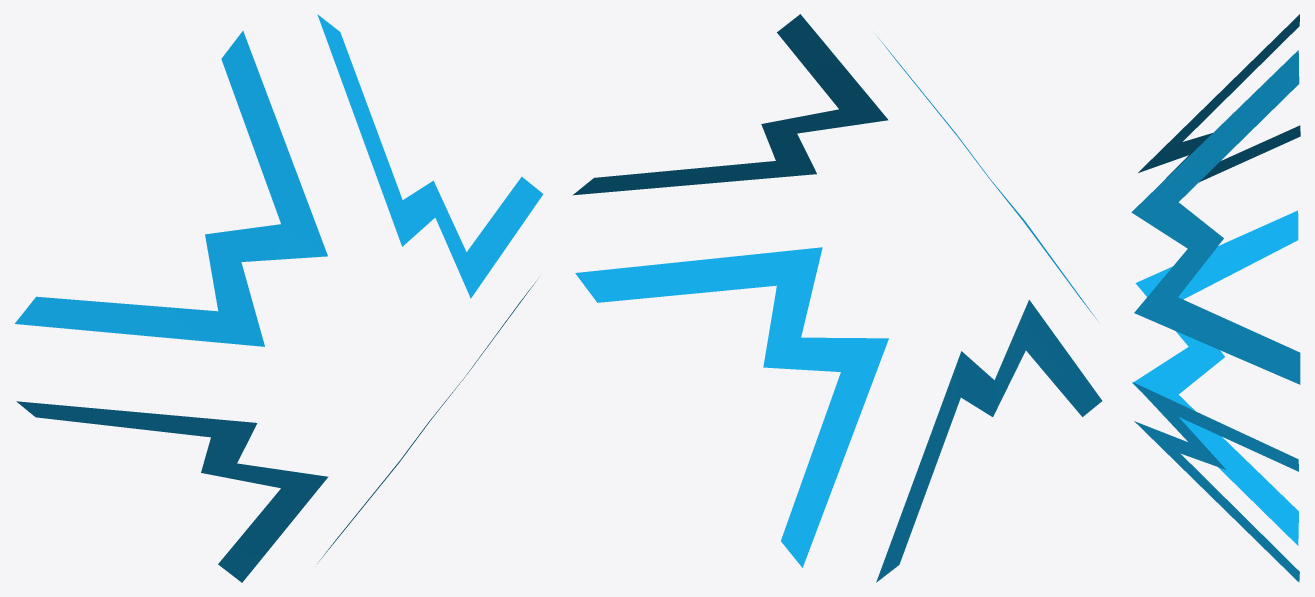
Rendered from Andrius_Rush2.fbx.
3 renders of one model, left to right at view 1: azimuth 30°, elevation 25°; view 2: azimuth 150°, elevation 25°; view 3: azimuth 270°, elevation 25°, orthographic. The views are drawn at different scales.
Parts seen in each view (by area): view 1: Eff_Model_Sc_WindBall_02; view 2: Eff_Model_Sc_WindBall_02; view 3: Eff_Model_Sc_WindBall_02.
Part boxes in pixels (x1=…): Eff_Model_Sc_WindBall_02: x1=15, y1=14, x2=543, y2=582; Eff_Model_Sc_WindBall_02: x1=573, y1=14, x2=1102, y2=582; Eff_Model_Sc_WindBall_02: x1=1131, y1=14, x2=1300, y2=582.
Bounding box in the file's own units: 45.73 × 45.79 × 13.12.
Materials: 1 (1 with a texture image).
